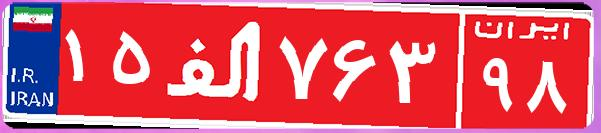1: (57, 26, 110, 107)
3: (385, 28, 445, 110)
5: (110, 28, 158, 105)
6: (330, 28, 385, 110)
7: (273, 28, 330, 110)
8: (525, 38, 570, 115)
9: (475, 38, 525, 113)
الف: (158, 15, 273, 115)
